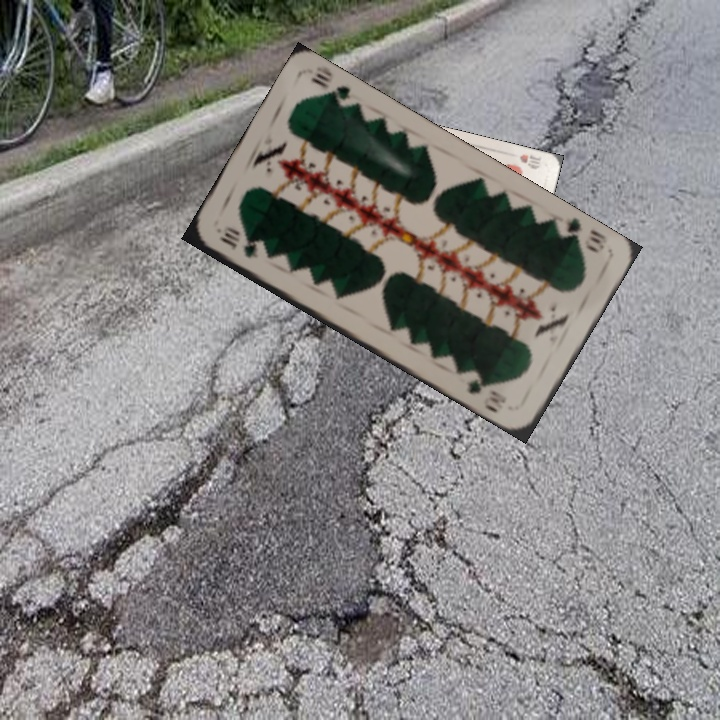G10: (553, 214, 610, 256), (214, 225, 261, 261)
H10: (516, 150, 544, 172)
